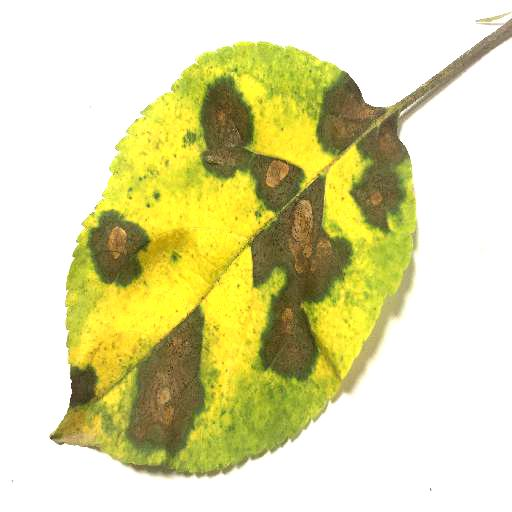Brown_Spot: (138, 349, 206, 445), (261, 216, 337, 286), (258, 305, 317, 376), (77, 223, 144, 280), (200, 94, 252, 164), (370, 124, 404, 226), (327, 80, 370, 138), (254, 157, 293, 199), (69, 368, 93, 395)
